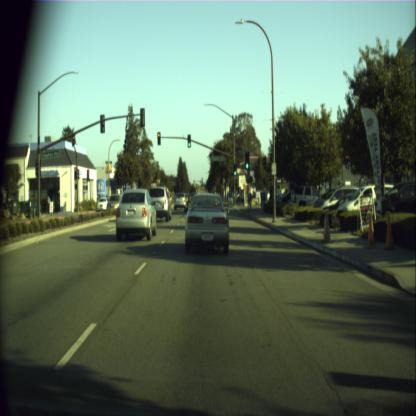Green: (245, 152, 249, 169), (233, 163, 236, 175), (188, 134, 190, 147)
Red: (158, 132, 160, 144)
